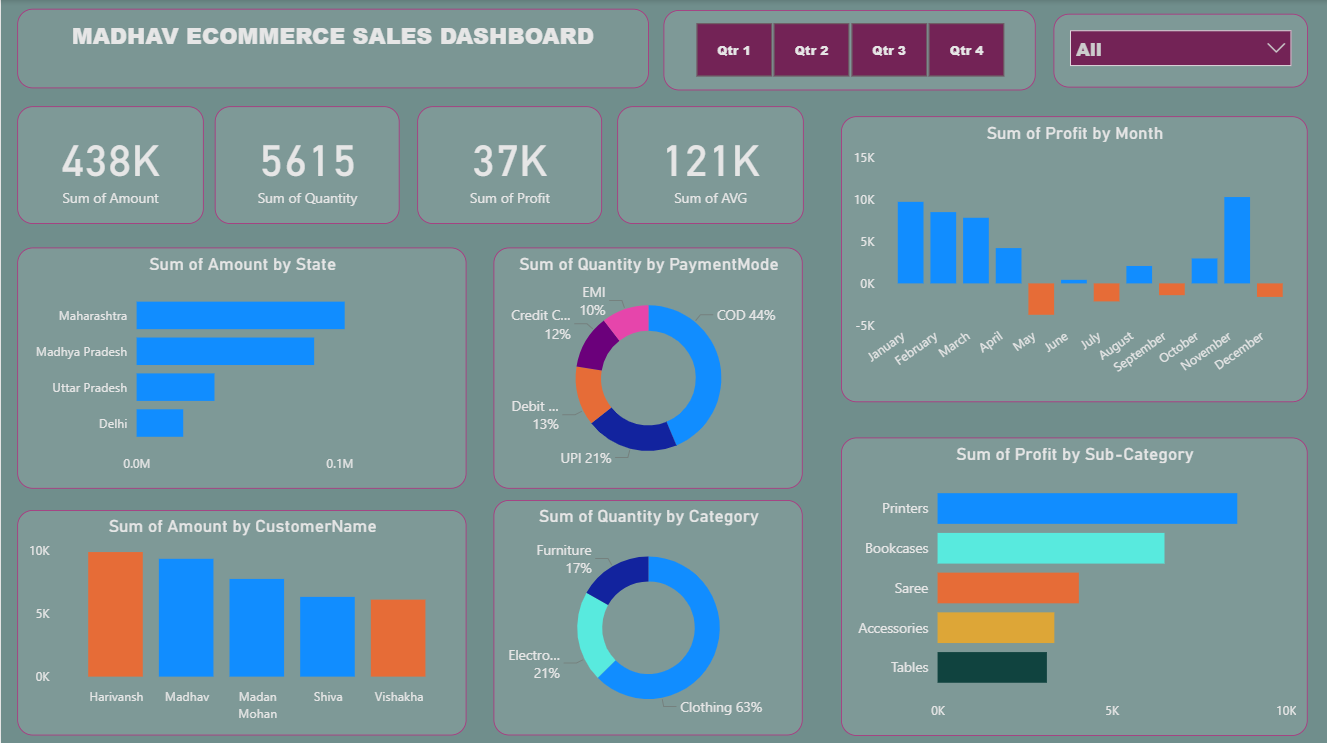

Layout of this report page (visuals, bound fields, positions):
{"tool":"powerbi","page":{"name":"Store Analysis","canvas":[1280,720],"ordinal":0},"visuals":[{"type":"textbox","box":[16.2,8.1,609.6,77],"z":0},{"type":"columnChart","fields":{"Y":["Sum(Details.Profit)"],"Category":["Orders.Order Date.Variation.Date Hierarchy.Month"]},"box":[811,112.2,450.1,275.8],"z":1000},{"type":"barChart","fields":{"Category":["Details.Sub-Category"],"Y":["Sum(Details.Profit)"]},"box":[811,421.7,450.1,287.9],"z":2000},{"type":"donutChart","fields":{"Category":["Details.Category"],"Y":["Sum(Details.Quantity)"]},"box":[475.8,482.6,298.7,227.1],"z":3000},{"type":"donutChart","fields":{"Y":["Sum(Details.Quantity)"],"Category":["Details.PaymentMode"]},"box":[475.8,239.3,298.7,232.5],"z":4000},{"type":"card","fields":{"Values":["Sum(Details.Amount)"]},"box":[16.2,102.7,179.8,113.5],"z":5000},{"type":"card","fields":{"Values":["Sum(Details.Quantity)"]},"box":[206.8,102.7,178.4,113.5],"z":6000},{"type":"card","fields":{"Values":["Sum(Details.Profit)"]},"box":[401.5,102.7,178.4,113.5],"z":7000},{"type":"card","fields":{"Values":["Sum(Details.AVG)"]},"box":[594.8,102.7,179.8,113.5],"z":8000},{"type":"barChart","fields":{"Category":["Orders.State"],"Y":["Sum(Details.Amount)"]},"box":[16.2,239.3,433.9,232.5],"z":9000},{"type":"columnChart","fields":{"Category":["Orders.CustomerName"],"Y":["Sum(Details.Amount)"]},"box":[16.2,492,433.9,217.6],"z":10000},{"type":"slicer","fields":{"Values":["Orders.Order Date.Variation.Date Hierarchy.Quarter"]},"box":[639,9.1,358.9,77.2],"z":11000},{"type":"slicer","fields":{"Values":["Orders.State"]},"box":[1016,13.6,245.3,71.2],"z":12000}]}

Visuals, with their boxes in screenshot pixels (x1, y1, x2, y2), scaled from the page's 1280x720 canvas onto the 1327x743 screenshot:
textbox: select_region(17, 8, 649, 88)
columnChart - Sum(Details.Profit) x Orders.Order Date.Variation.Date Hierarchy.Month: select_region(841, 116, 1307, 400)
barChart - Details.Sub-Category x Sum(Details.Profit): select_region(841, 435, 1307, 732)
donutChart - Details.Category x Sum(Details.Quantity): select_region(493, 498, 803, 732)
donutChart - Sum(Details.Quantity) x Details.PaymentMode: select_region(493, 247, 803, 487)
card - Sum(Details.Amount): select_region(17, 106, 203, 223)
card - Sum(Details.Quantity): select_region(214, 106, 399, 223)
card - Sum(Details.Profit): select_region(416, 106, 601, 223)
card - Sum(Details.AVG): select_region(617, 106, 803, 223)
barChart - Orders.State x Sum(Details.Amount): select_region(17, 247, 467, 487)
columnChart - Orders.CustomerName x Sum(Details.Amount): select_region(17, 508, 467, 732)
slicer - Orders.Order Date.Variation.Date Hierarchy.Quarter: select_region(662, 9, 1035, 89)
slicer - Orders.State: select_region(1053, 14, 1308, 88)
